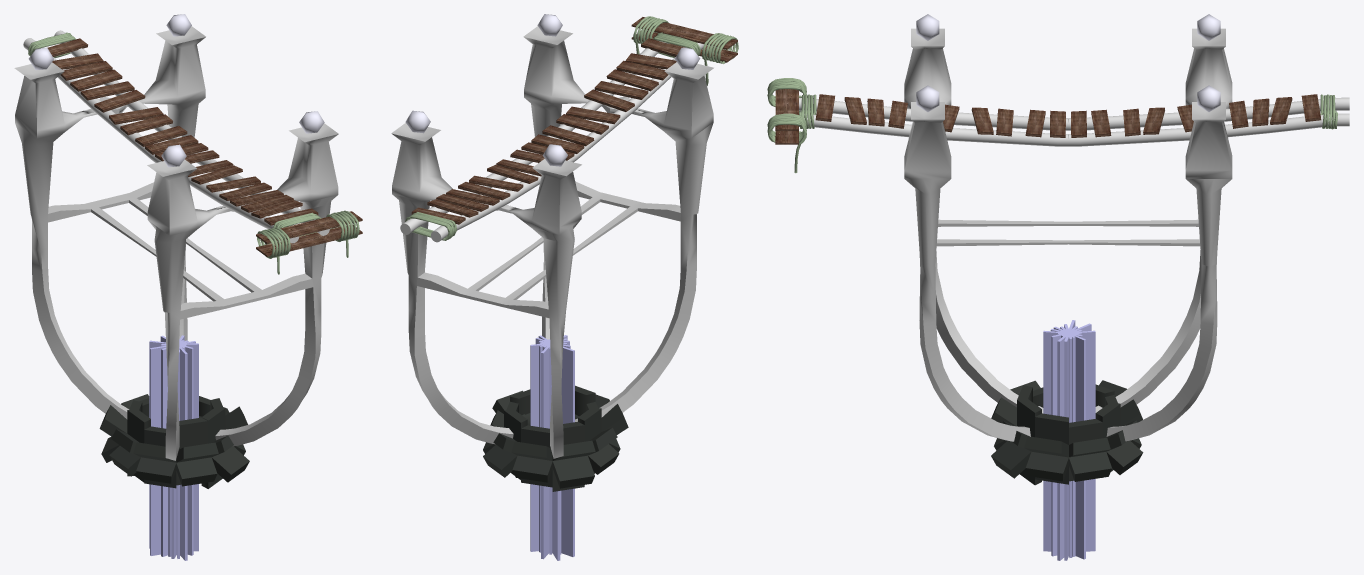
File: 1_bridge_straight.fbx
3 renders of one model, left to right at view 1: azimuth 30°, elevation 25°; view 2: azimuth 150°, elevation 25°; view 3: azimuth 270°, elevation 25°, orthographic. The views are drawn at different scales.
Visible parts, largest first — view 1: 1_straight_base, gravityring, 1_straight_La, 1_straight_verschlag, 1_straight_verschlag_ropes, 1_straight_La_ropes; view 2: 1_straight_base, gravityring, 1_straight_La, 1_straight_verschlag_ropes, 1_straight_verschlag, 1_straight_La_ropes; view 3: 1_straight_base, gravityring, 1_straight_La, 1_straight_verschlag_ropes, 1_straight_verschlag, 1_straight_La_ropes.
Part boxes in pixels (<box>): 1_straight_base: <box>14,14,338,460</box>; gravityring: <box>99,335,249,560</box>; 1_straight_La: <box>23,30,329,243</box>; 1_straight_verschlag: <box>256,211,362,256</box>; 1_straight_verschlag_ropes: <box>257,210,359,274</box>; 1_straight_La_ropes: <box>28,32,321,240</box>; 1_straight_base: <box>391,14,713,458</box>; gravityring: <box>483,335,628,560</box>; 1_straight_La: <box>400,38,704,242</box>; 1_straight_verschlag_ropes: <box>633,16,738,85</box>; 1_straight_verschlag: <box>631,17,737,62</box>; 1_straight_La_ropes: <box>405,32,700,240</box>; 1_straight_base: <box>904,14,1232,441</box>; gravityring: <box>991,320,1143,560</box>; 1_straight_La: <box>799,94,1349,146</box>; 1_straight_verschlag_ropes: <box>767,78,806,173</box>; 1_straight_verschlag: <box>775,89,798,144</box>; 1_straight_La_ropes: <box>799,94,1337,129</box>.
Bounding box in the file's own units: 46 × 117 × 124.
7 materials, 1 textured.
